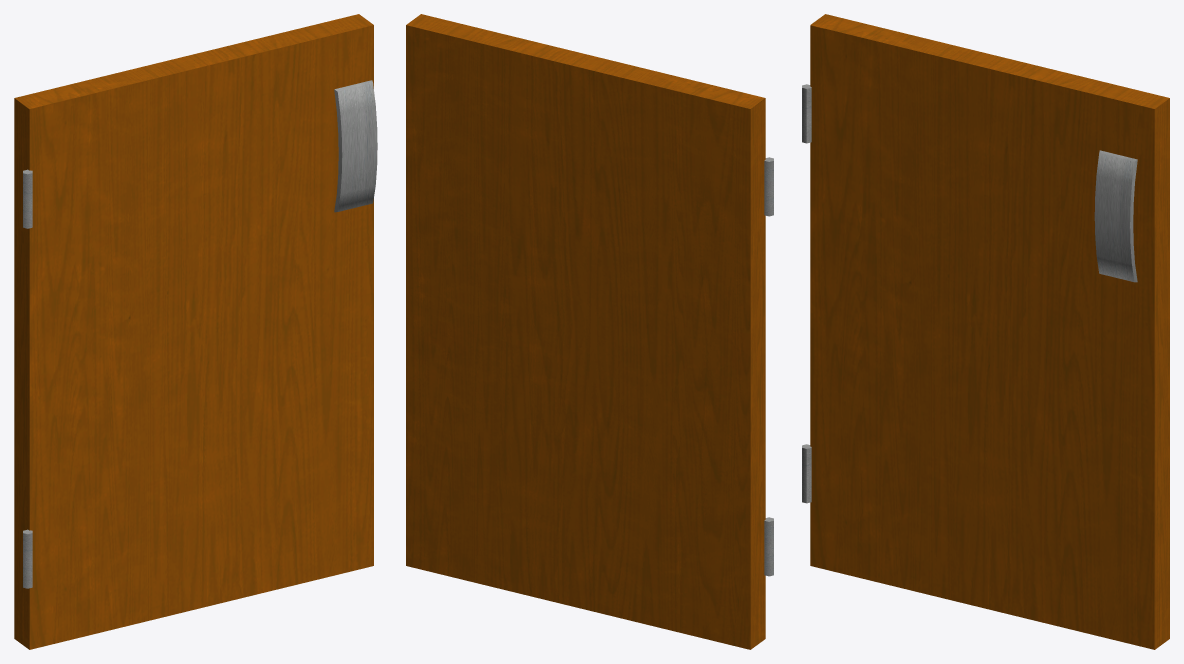
The model's file is p6_wood_cabinet_door_right_lod0.glb.
3 renders of one model, left to right at view 1: azimuth 30°, elevation 25°; view 2: azimuth 150°, elevation 25°; view 3: azimuth 330°, elevation 25°, orthographic.
Visible parts, largest first — view 1: surf1, surf0; view 2: surf1, surf0; view 3: surf1, surf0.
Part boxes in pixels (x1,y1,x2,y2): surf1: (14,14,373,649); surf0: (23,80,377,588); surf1: (406,14,765,649); surf0: (764,157,773,576); surf1: (810,14,1169,649); surf0: (802,84,1137,503).
Size of the model in its own units: 20.11 by 29.53 by 2.89.
